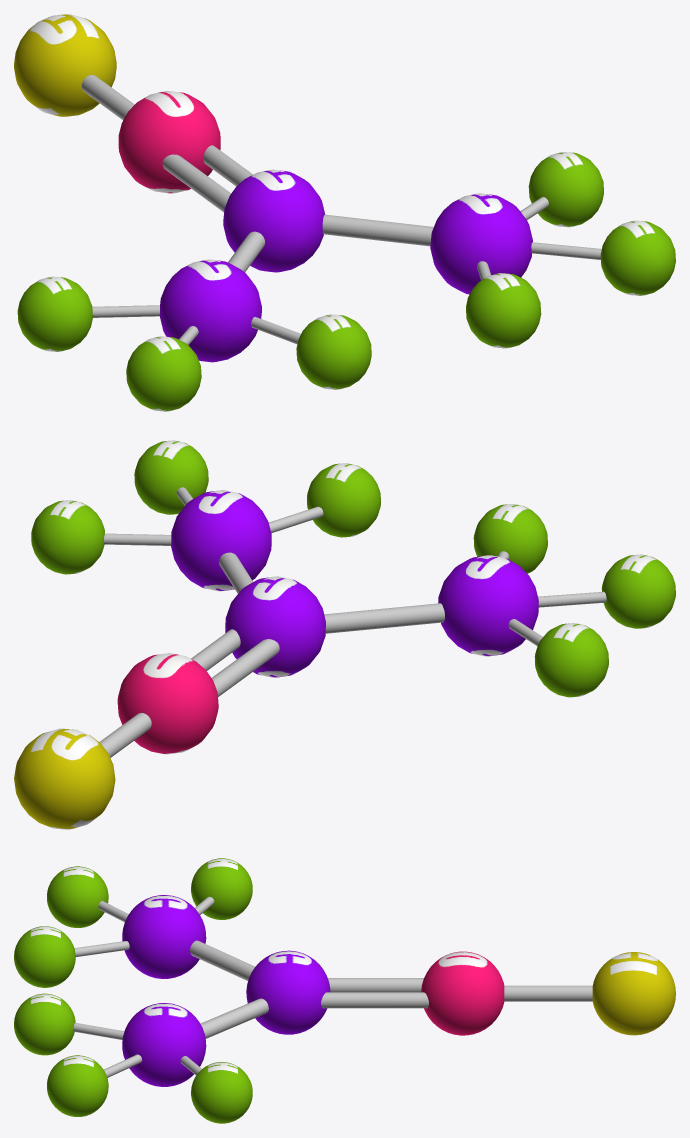
File: SM_Molecule_7.fbx
3 renders of one model, top to bottom at view 1: azimuth 30°, elevation 25°; view 2: azimuth 150°, elevation 25°; view 3: azimuth 270°, elevation 25°, orthographic. The views are drawn at different scales.
Parts seen in each view (by area): view 1: SM_Molecule_7; view 2: SM_Molecule_7; view 3: SM_Molecule_7.
Boxes of the visible parts, x1=… form: SM_Molecule_7: x1=14, y1=14, x2=675, y2=411; SM_Molecule_7: x1=14, y1=440, x2=675, y2=829; SM_Molecule_7: x1=14, y1=858, x2=675, y2=1123.
Size of the model in its own units: 357 by 55.24 by 435.
